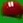brown: (0, 0, 23, 23)
